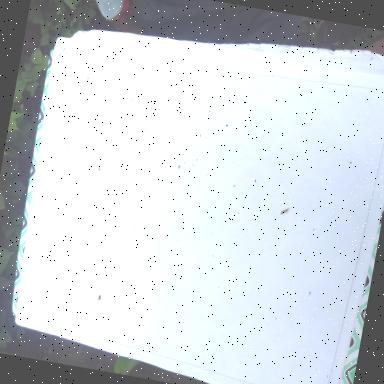pbw: (280, 205, 292, 216)
